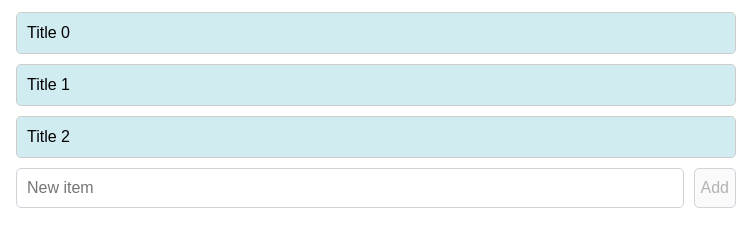
Test case: TodoView.vue › GIVEN an shallow mounted component › WHEN new item title input field is not empty › THEN Add button should be enabled
Type "New Title" into the field with test id "input-text" at x=350, y=188, box [16,168,684,208]
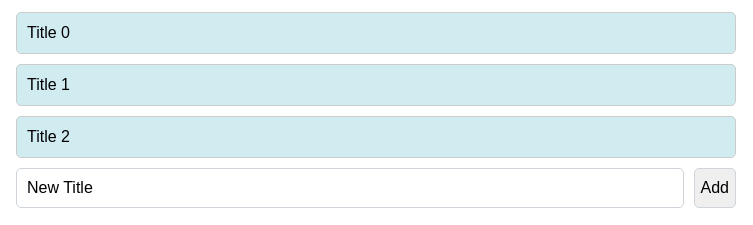
Check: the button with test id "btn-add-todo-item" is enabled, box [694,168,736,208]
